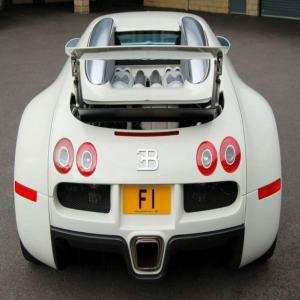Plate: (123, 186, 172, 214)
